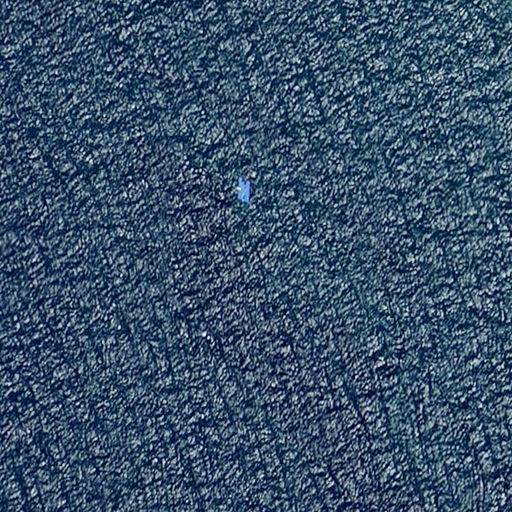ship: (235, 176, 253, 203)
